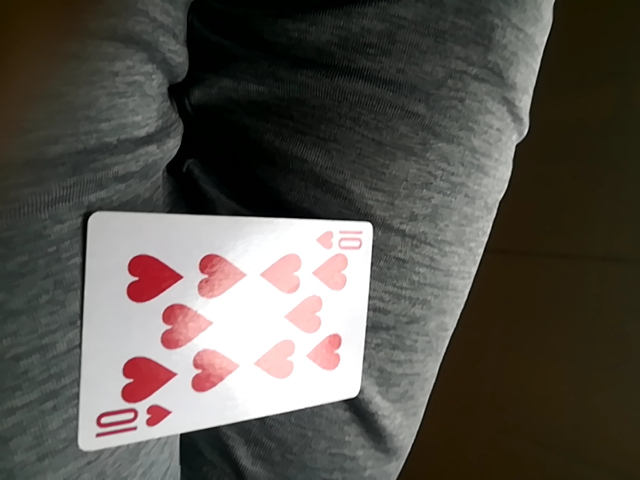hx 10: (77, 211, 373, 452)
